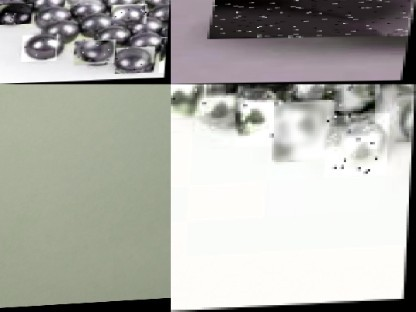ironball: (209, 0, 415, 39), (324, 114, 390, 180), (272, 103, 335, 162), (234, 84, 290, 148), (322, 84, 377, 128), (170, 84, 206, 117), (116, 46, 157, 74), (75, 39, 115, 66), (21, 34, 58, 62), (396, 95, 415, 145), (110, 4, 147, 26), (225, 84, 295, 95), (0, 2, 33, 24), (159, 38, 167, 74), (64, 0, 102, 6), (348, 84, 396, 87), (133, 0, 151, 2)
